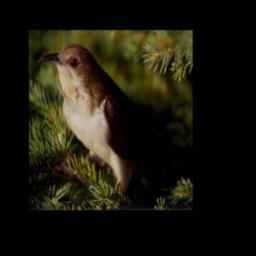Cuckoo: (37, 43, 186, 196)
